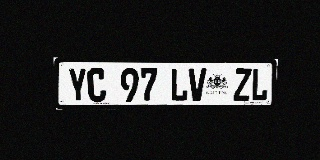7: (139, 68, 157, 102)
9: (121, 68, 139, 102)
C: (87, 68, 106, 102)
L: (170, 68, 188, 102), (251, 68, 269, 101)
V: (188, 68, 206, 102)
Y: (67, 68, 87, 103)
Z: (233, 68, 252, 101)
